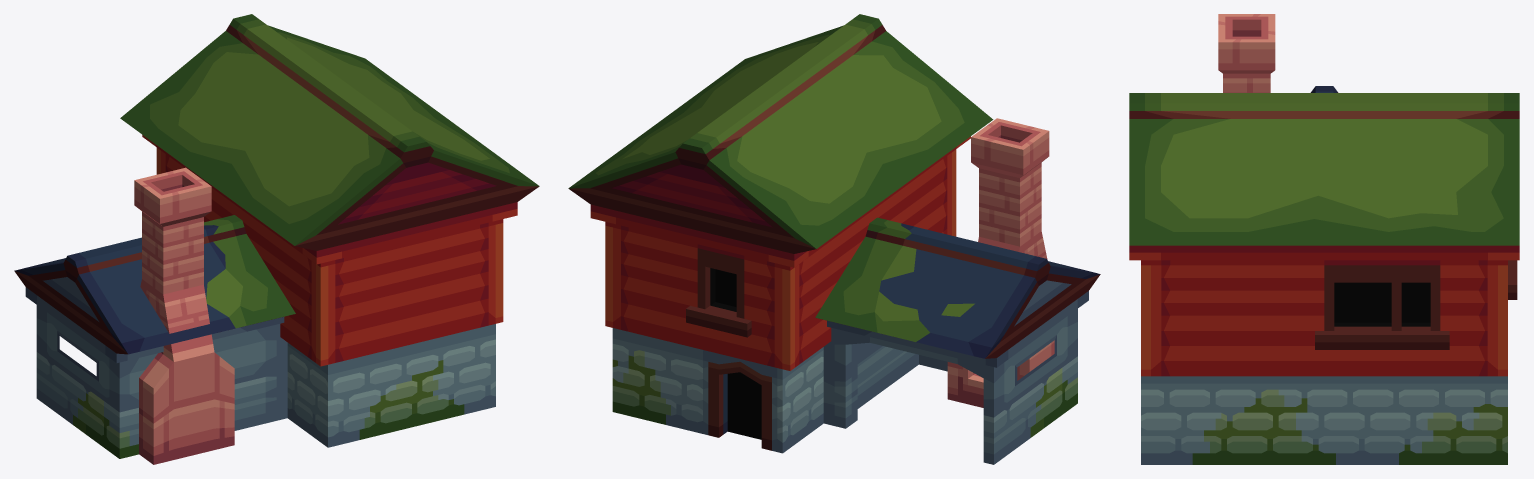
Rendered from buildingWorkshop.fbx.
The picture shows the model from 3 angles, left to right: view 1: azimuth 30°, elevation 25°; view 2: azimuth 150°, elevation 25°; view 3: azimuth 270°, elevation 25°; orthographic projection. The views are drawn at different scales.
Parts seen in each view (by area): view 1: houseWorkshopTop1, houseWorkshopTop2, forge, houseWorkshopBottom1; view 2: houseWorkshopTop1, houseWorkshopTop2, houseWorkshopBottom1, forge; view 3: houseWorkshopTop1, houseWorkshopBottom1, forge.
Part boxes in pixels (box(x1,y1,x2,y2)): houseWorkshopTop1: box(120, 14, 539, 366); houseWorkshopTop2: box(14, 215, 295, 458); forge: box(134, 167, 234, 464); houseWorkshopBottom1: box(287, 324, 495, 447); houseWorkshopTop1: box(568, 14, 993, 370); houseWorkshopTop2: box(815, 217, 1100, 464); houseWorkshopBottom1: box(612, 328, 823, 453); forge: box(947, 118, 1054, 407); houseWorkshopTop1: box(1129, 93, 1519, 376); houseWorkshopBottom1: box(1141, 376, 1507, 464); forge: box(1218, 14, 1275, 92).
Size of the model in its own units: 969 by 697 by 768.
4 materials, 4 textured.
